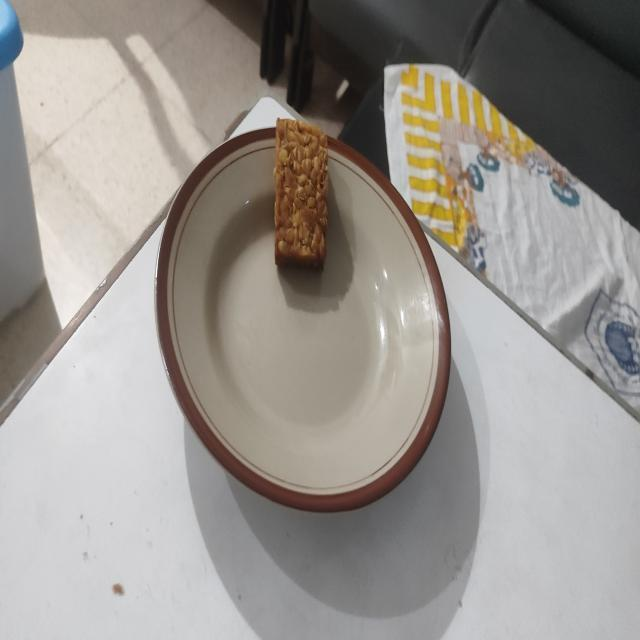tempe_goreng: (274, 119, 328, 268)
